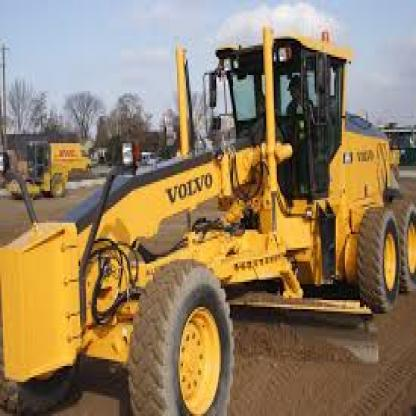bull_dozer/loader/grader: (3, 27, 415, 414)
